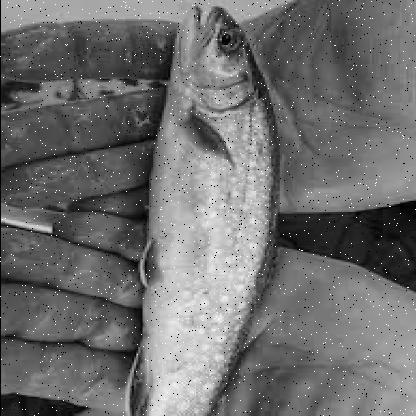fish: (115, 0, 286, 415)
